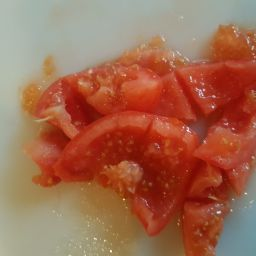Tomato: (158, 15, 256, 256), (13, 42, 146, 219), (34, 49, 98, 187)
